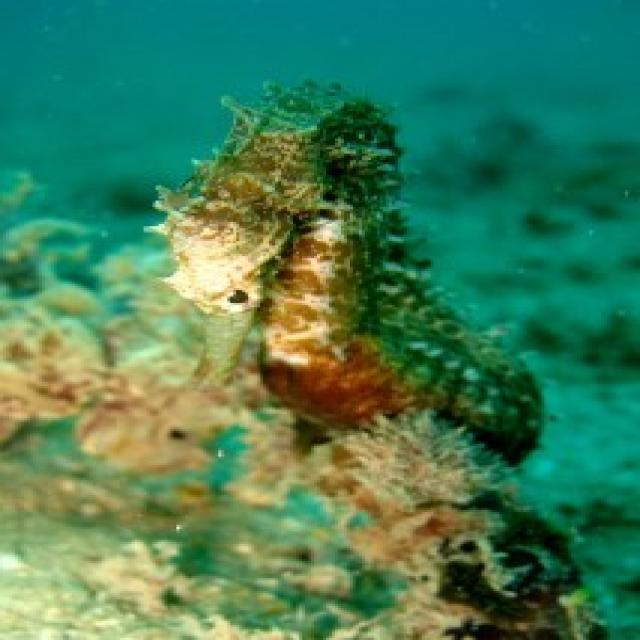Seahorse: (150, 60, 597, 630)
